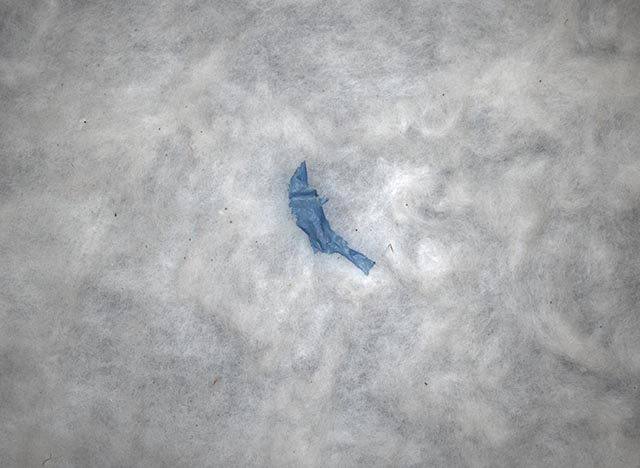plastic film: (287, 160, 379, 277)
